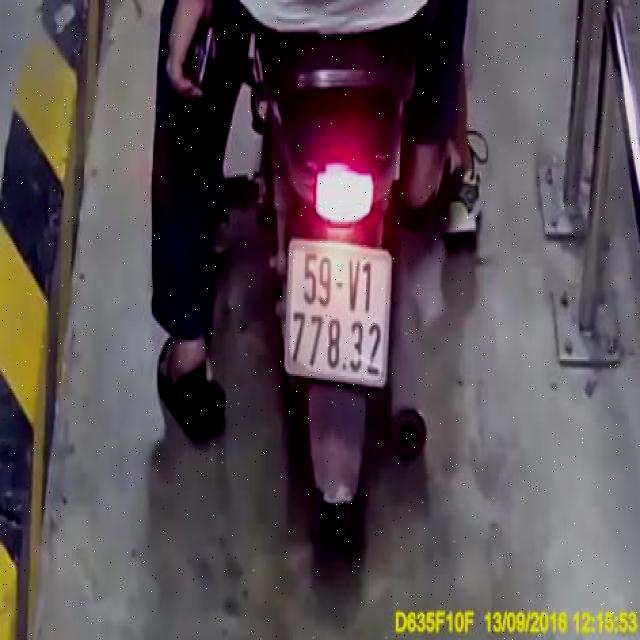1: (362, 263, 374, 312)
2: (367, 319, 382, 383)
3: (349, 320, 364, 373)
5: (300, 253, 317, 307)
7: (306, 314, 324, 367), (291, 307, 306, 362)
8: (327, 318, 341, 371)
9: (315, 253, 335, 306)
V: (345, 260, 362, 316)
